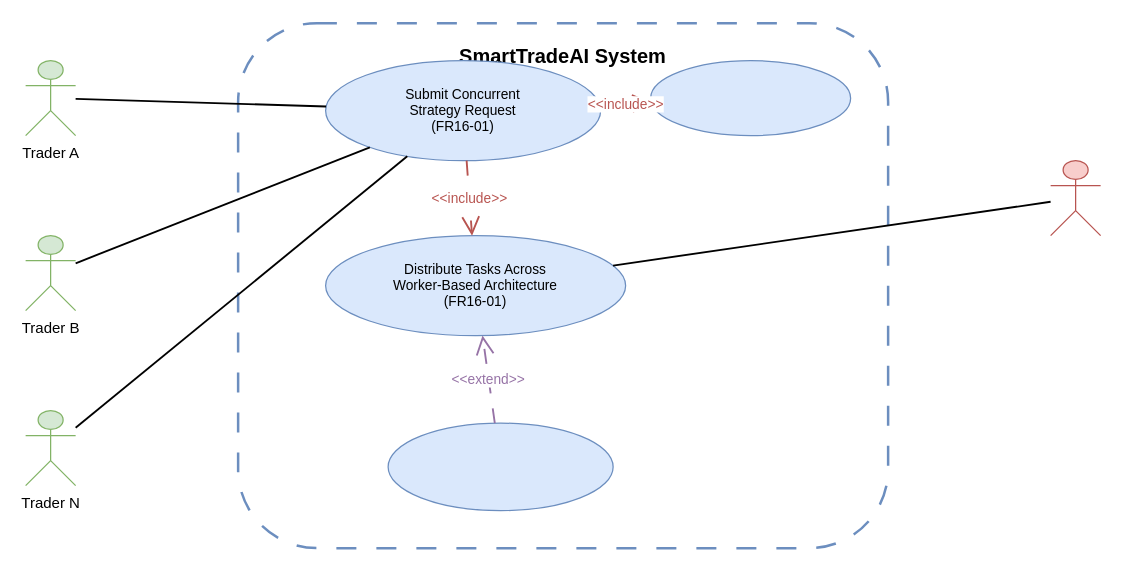
Some shapes in this 1123 by 570 pixel diagram are drawn without their labels. Each missing label, with the centre of its shape:
"Isolate User Sessions" goes at point (750, 97).
"Scale Workers Horizontally" goes at point (500, 466).
"Worker Pool" goes at point (1075, 197).
